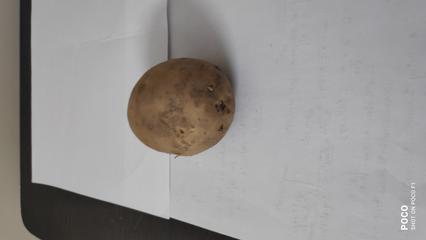potato: (120, 53, 252, 158)
